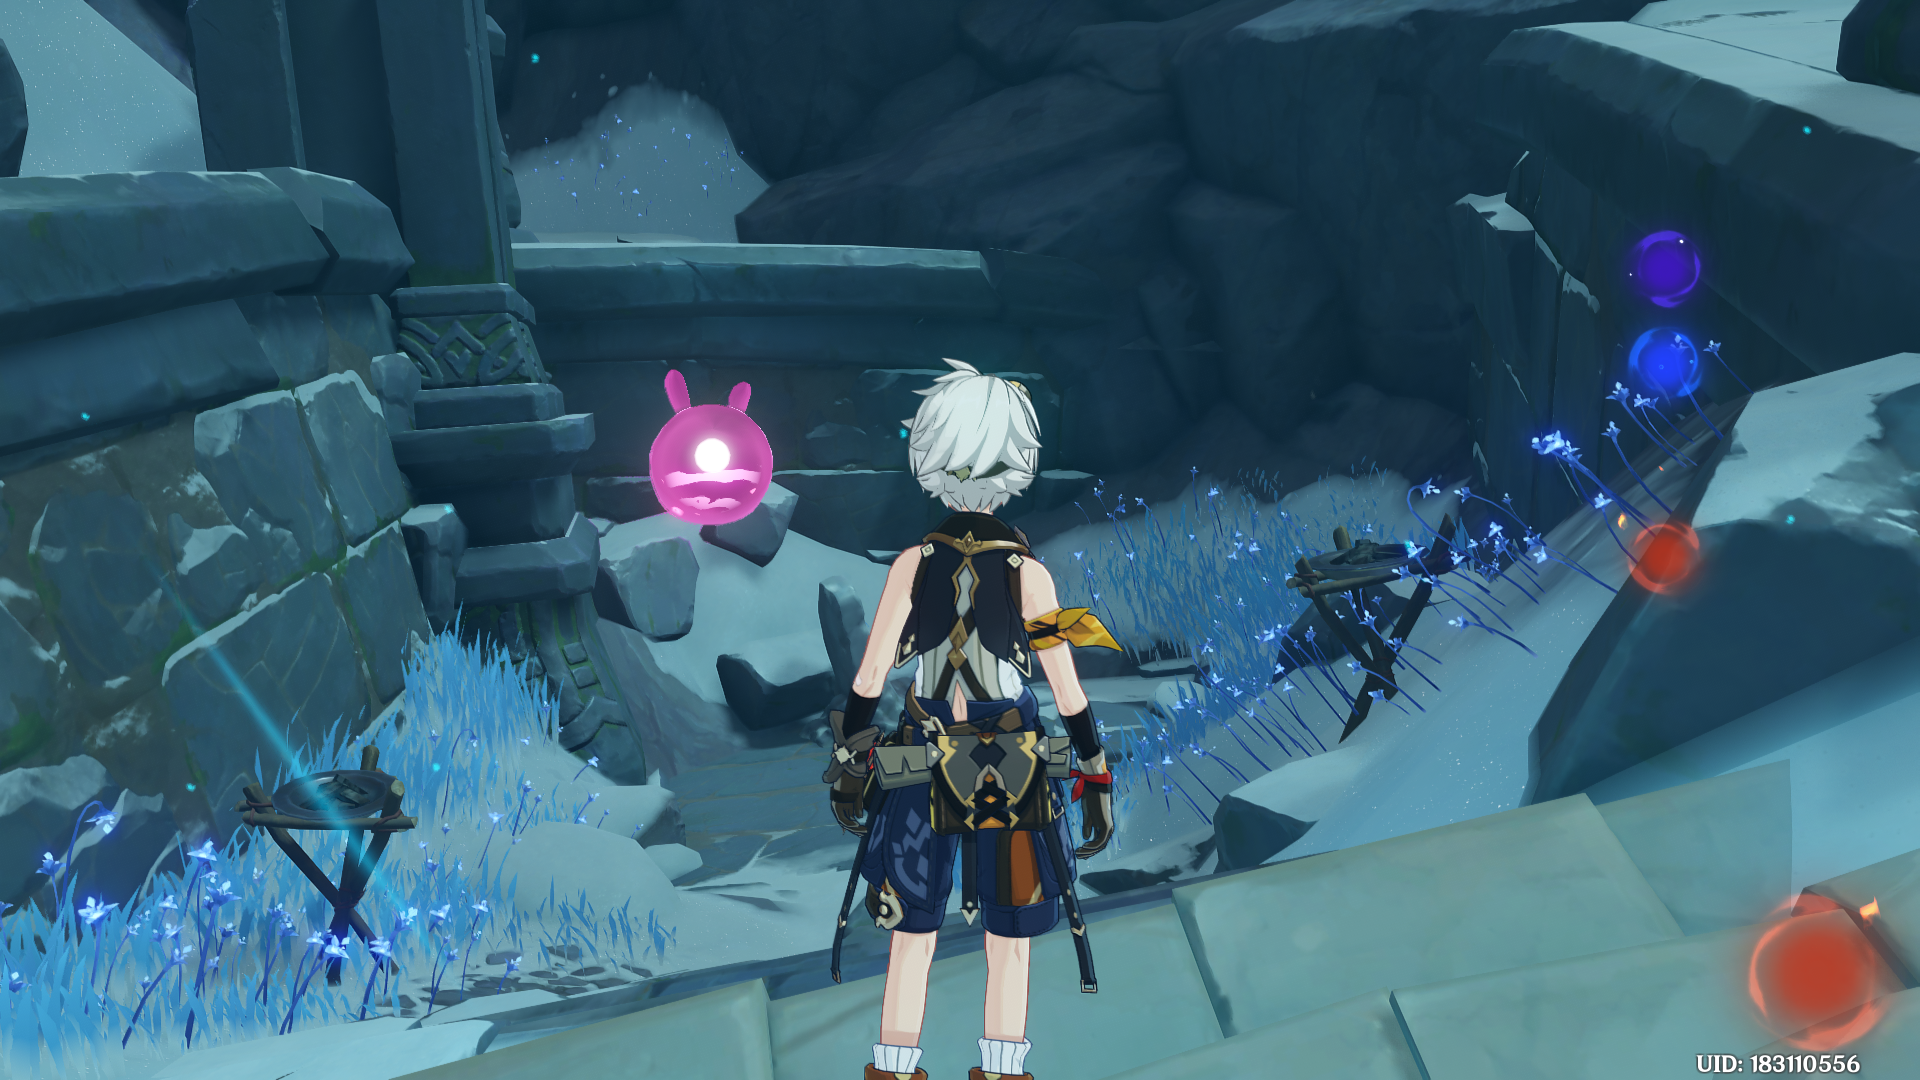character: (741, 338, 1188, 1080)
